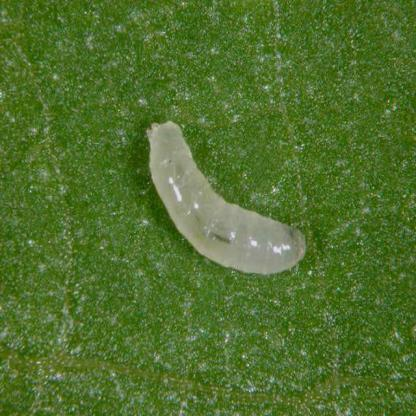whorl-maggot: (146, 114, 309, 278)
